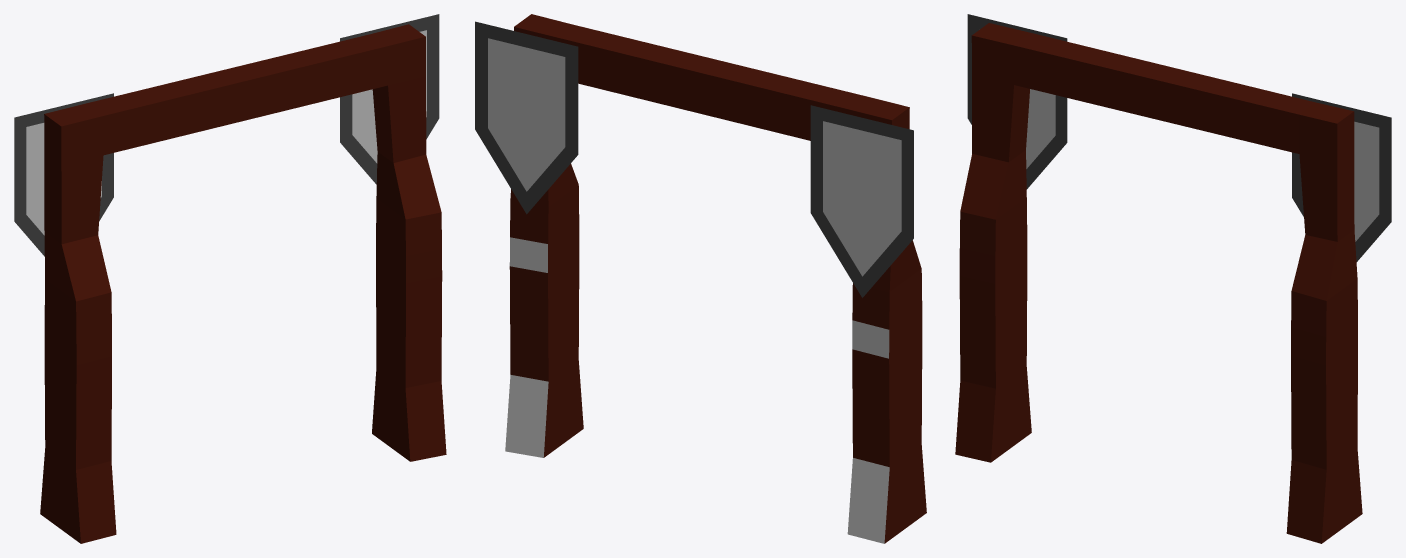
Rendered from gate.obj.
The picture shows the model from 3 angles, left to right: view 1: azimuth 30°, elevation 25°; view 2: azimuth 150°, elevation 25°; view 3: azimuth 330°, elevation 25°; orthographic projection. The views are drawn at different scales.
Visible parts, largest first — view 1: gate; view 2: gate; view 3: gate.
Part boxes in pixels (x1,y1,x2,y2): gate: [14, 14, 446, 543]; gate: [475, 14, 926, 543]; gate: [955, 14, 1391, 543].
Bounding box in the file's own units: 1.27 × 1.16 × 0.2119.
